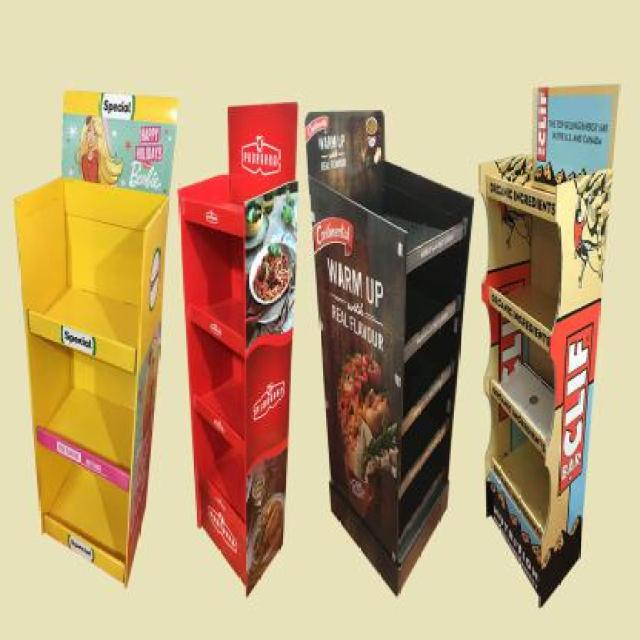box: (301, 27, 481, 640), (8, 66, 178, 637), (476, 18, 630, 640), (174, 56, 303, 634)
